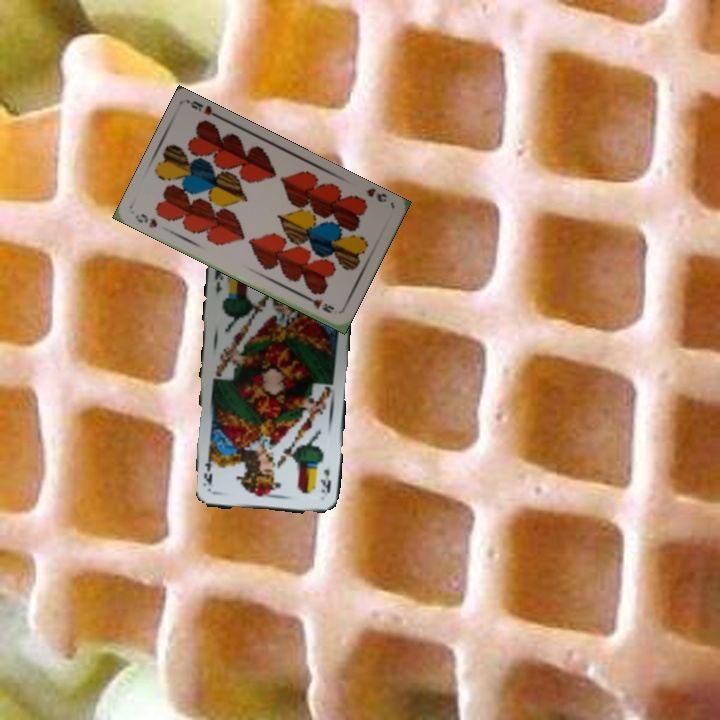EK: (316, 465, 333, 496), (211, 264, 226, 296)
H9: (131, 209, 160, 231), (363, 185, 389, 205)
